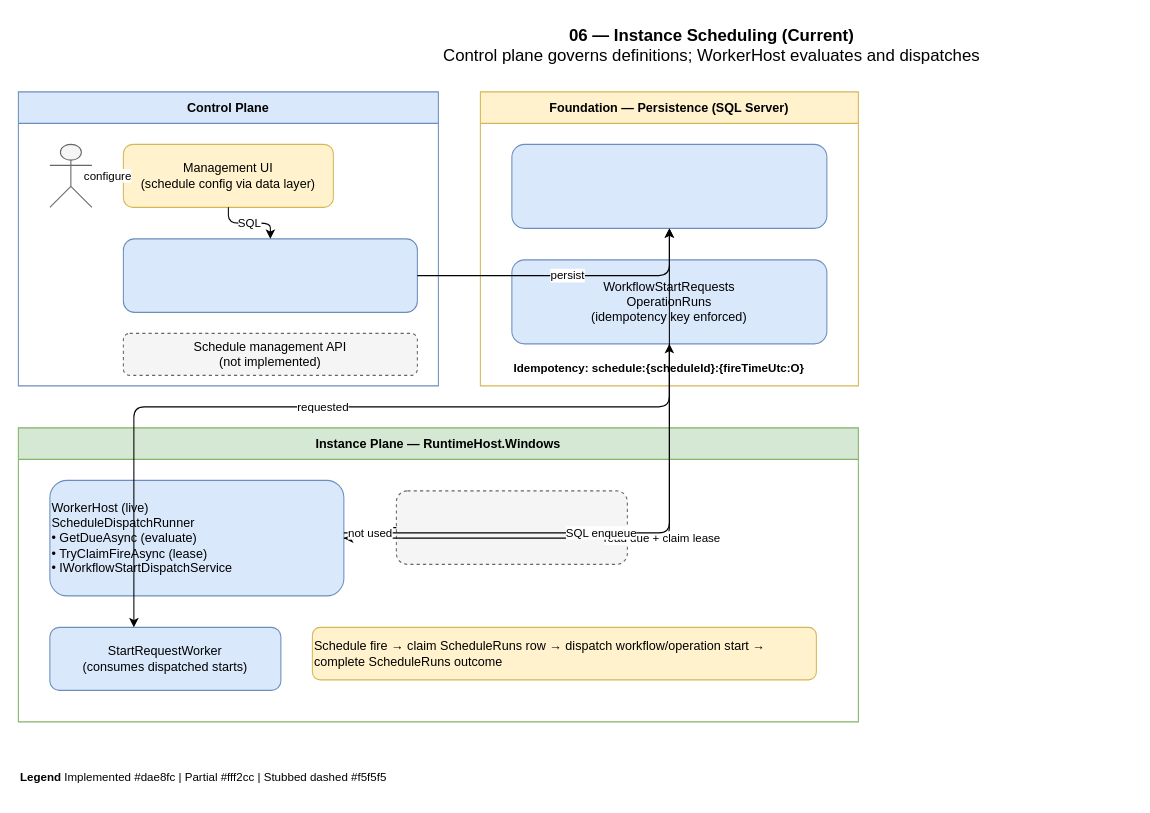
The diagram is 1150 pixels wide and 813 high, and some of its shapes have lost their labels. The shapes that lost their labels are listed below. From the top down, each one's centre as x and y in pixels, then its label:
At point (70, 175): "Operator / Admin".
At point (669, 185): "Schedules ScheduleAssignments ScheduleRuns (lease row per fire)".
At point (269, 275): "Schedule Definitions + Assignments (SQL) governed by Control Plane".
At point (511, 527): "SchedulerHost (stub process — not live dispatch)".
